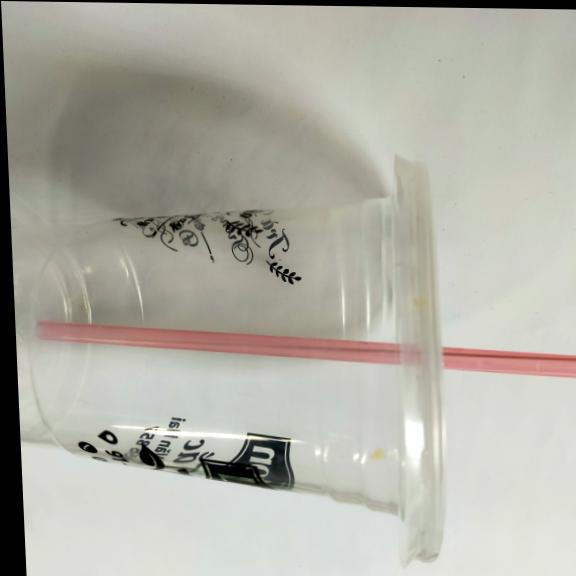Plastik: (26, 198, 443, 565)
